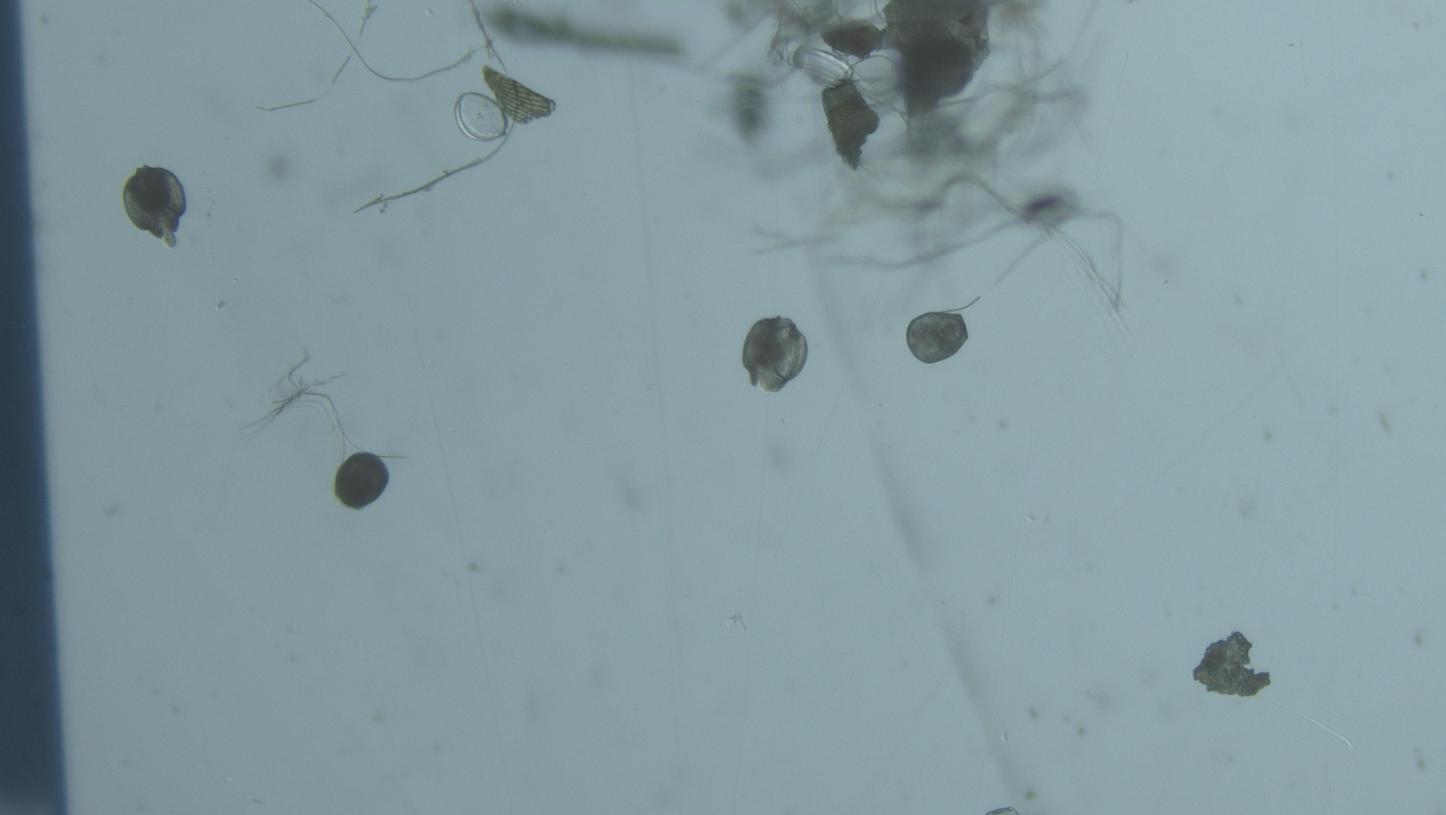dead: (855, 50, 902, 108), (790, 46, 852, 87), (455, 93, 506, 142)
live: (122, 166, 186, 247), (742, 317, 808, 392), (907, 312, 968, 364), (335, 452, 389, 509)
